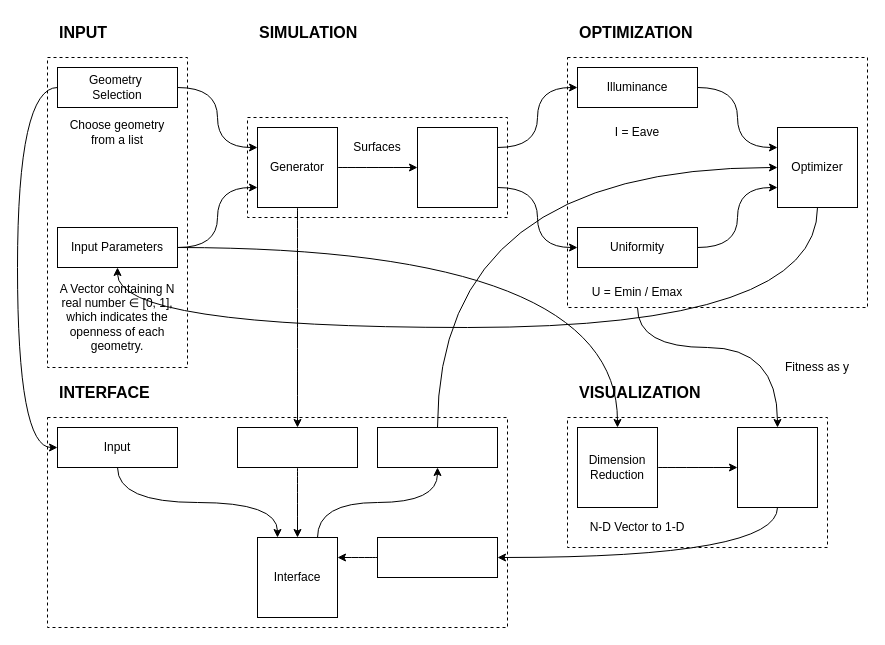
Image size: 885x645. Some labels were removed from this diagram. Each missing label, with the centre of its shape:
"Design Space" belongs at [437,557].
"Evaluator" belongs at [457,167].
"Geometry" belongs at [297,447].
"Optimize?" belongs at [437,447].
"Visualizor" belongs at [777,467].
